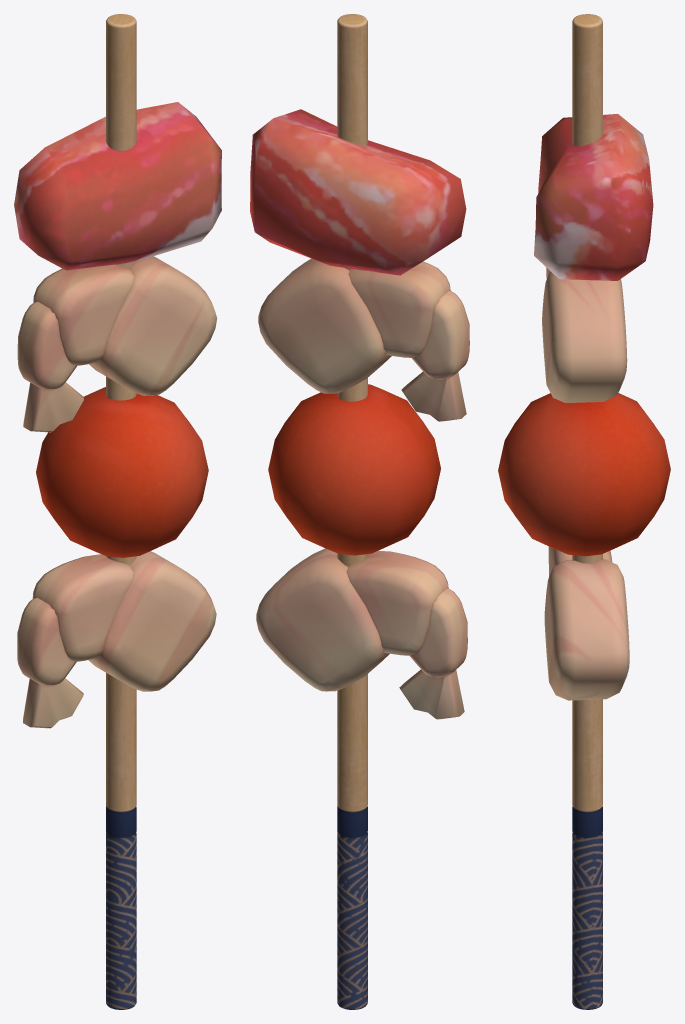
The model's file is JapaneseRestaurant_KushiB.fbx.
3 views of the same model, side by side, from view 1: azimuth 30°, elevation 25°; view 2: azimuth 150°, elevation 25°; view 3: azimuth 270°, elevation 25° (orthographic).
Parts seen in each view (by area): view 1: JapaneseRestaurant_KushiB; view 2: JapaneseRestaurant_KushiB; view 3: JapaneseRestaurant_KushiB.
Part boxes in pixels (bbox=[...]): JapaneseRestaurant_KushiB: bbox=[14, 14, 221, 1009]; JapaneseRestaurant_KushiB: bbox=[250, 14, 469, 1009]; JapaneseRestaurant_KushiB: bbox=[498, 14, 670, 1009].
Size of the model in its own units: 5.4 by 26.4 by 4.2.
